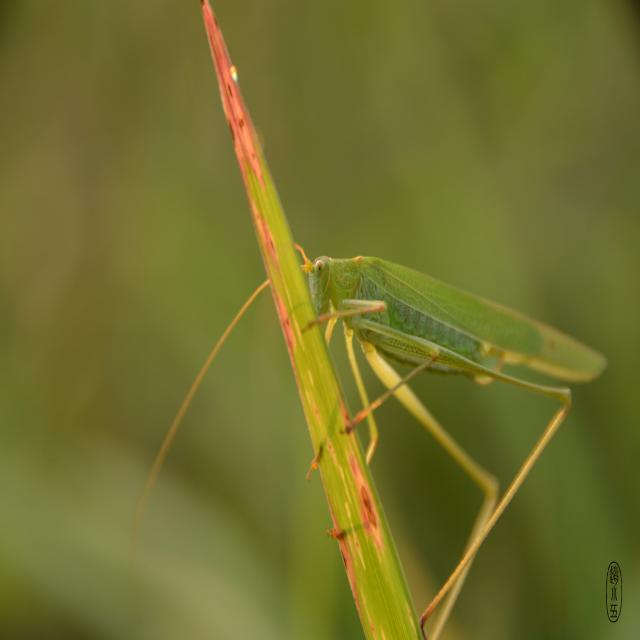ZhaMeng: (284, 223, 606, 489)
